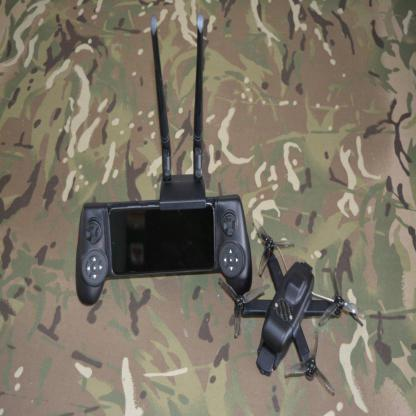UAS: (224, 218, 356, 392)
